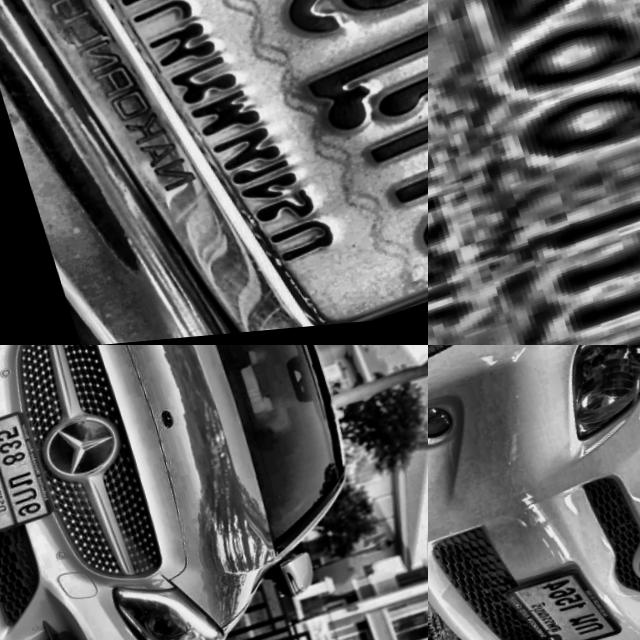license-plate: (0, 0, 428, 345), (428, 0, 640, 345), (488, 558, 618, 640), (0, 410, 49, 544)
